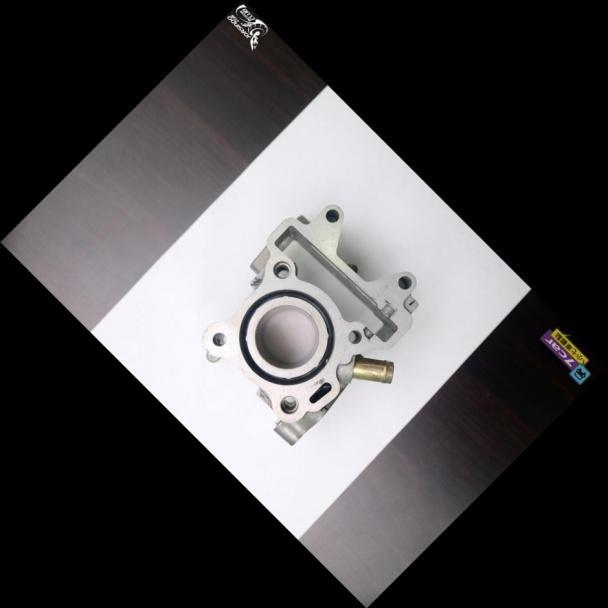hole: (271, 389, 302, 420), (266, 255, 295, 284), (206, 326, 229, 350), (319, 203, 343, 226), (343, 325, 365, 347), (392, 270, 414, 292)
